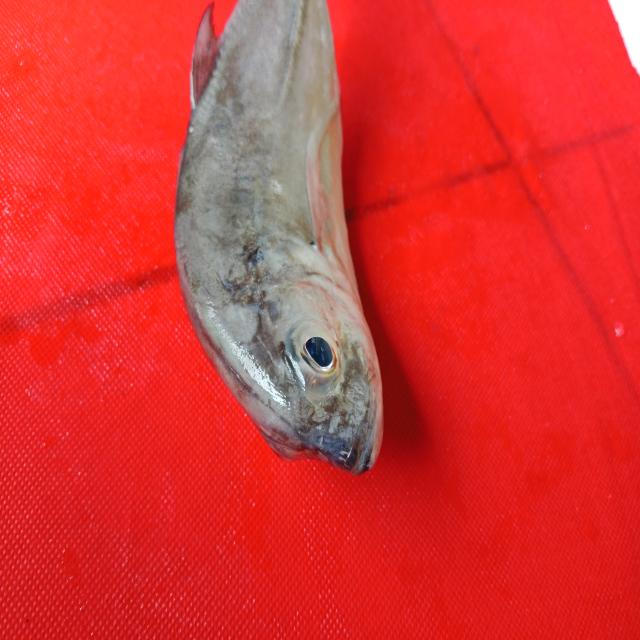ikan: (162, 5, 411, 491)
